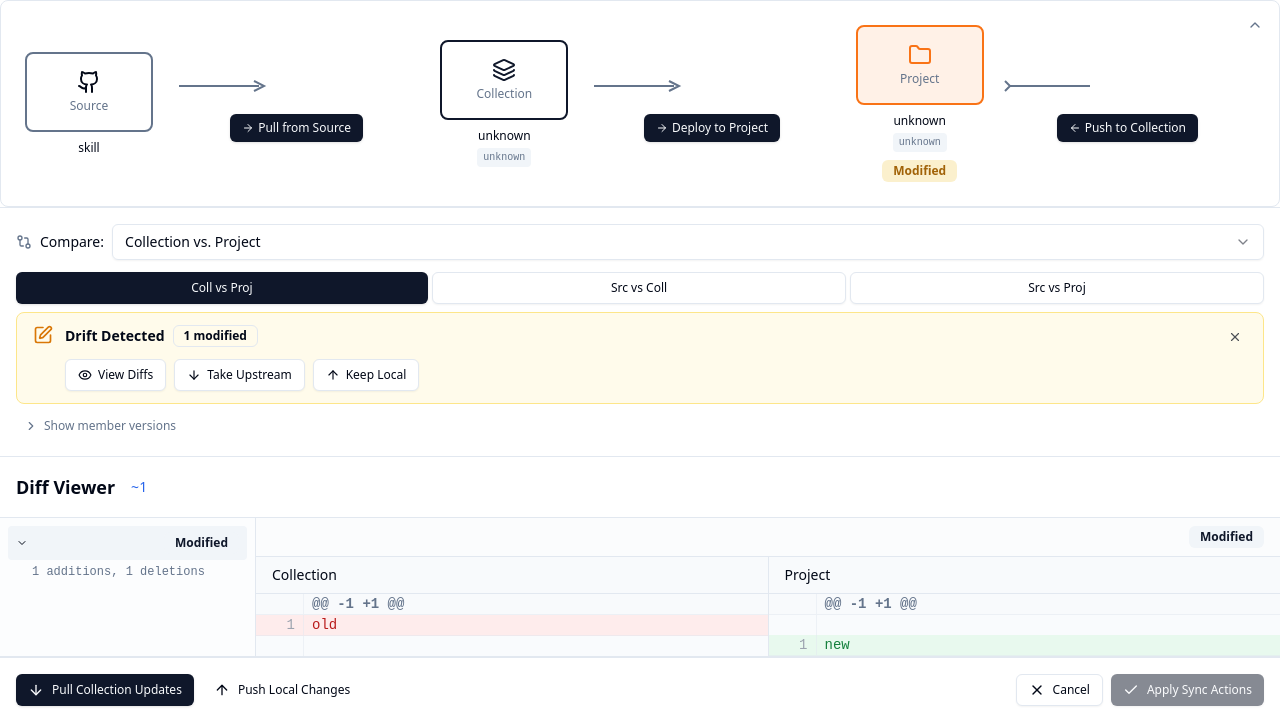
Test: SyncStatusTab - Confirmation Dialogs › pull confirmation dialog › shows confirmation dialog when "Pull from Source" is clicked
Click "Pull from Source" button in the banner
Click the button "Pull from Source". click: (297, 128)
box: [230, 114, 363, 142]
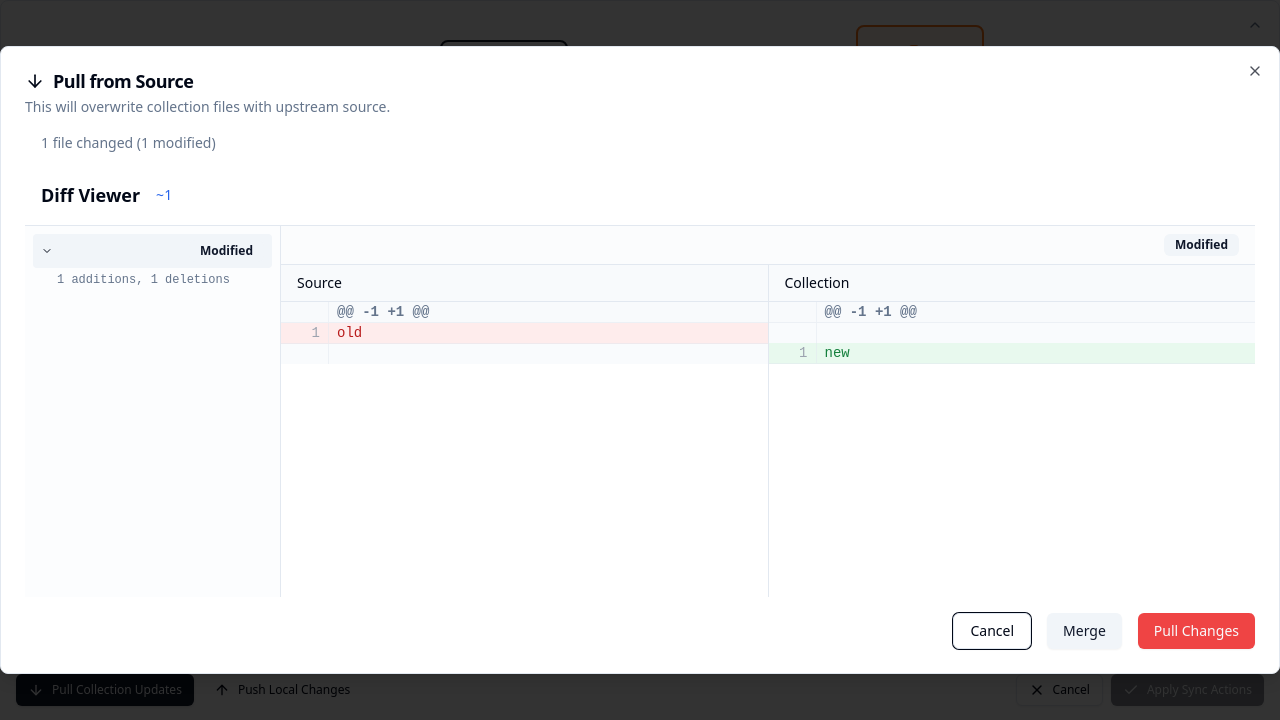
Check: the dialog is shown
Check: the heading "Pull from Source" is shown, box [53, 72, 194, 90]
Check: the button "Pull Changes" is shown, box [1138, 613, 1255, 649]
